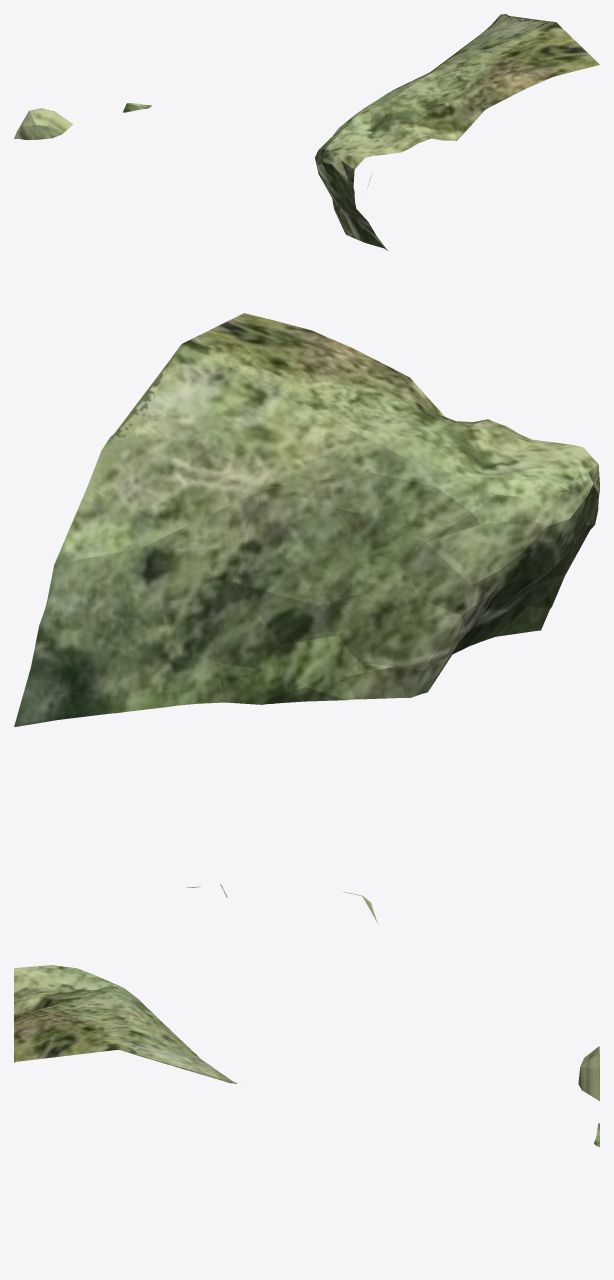
3 renders of one model, top to bottom at view 1: azimuth 30°, elevation 25°; view 2: azimuth 150°, elevation 25°; view 3: azimuth 270°, elevation 25°, orthographic. The views are drawn at different scales.
Bounding box in the file's own units: 9.49 × 4.8 × 11.8.
1 material, 1 textured.
